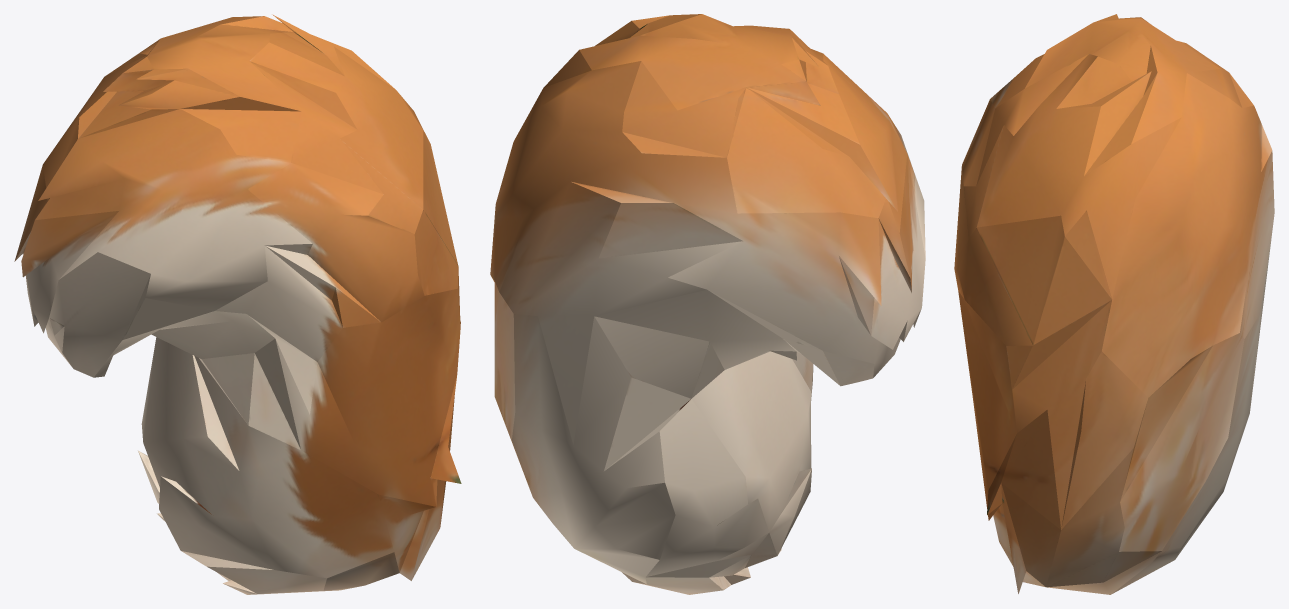
Rendered from orig_part1.glb.
3 renders of one model, left to right at view 1: azimuth 30°, elevation 25°; view 2: azimuth 150°, elevation 25°; view 3: azimuth 270°, elevation 25°, orthographic. The views are drawn at different scales.
Visible parts, largest first — view 1: output_unwrapped.001; view 2: output_unwrapped.001; view 3: output_unwrapped.001.
Boxes of the visible parts, x1,y1,x2,y2 form: output_unwrapped.001: (14, 14, 461, 594); output_unwrapped.001: (490, 14, 925, 594); output_unwrapped.001: (954, 14, 1274, 594).
Size of the model in its own units: 98.3 by 129 by 73.23.
1 material, 1 textured.
